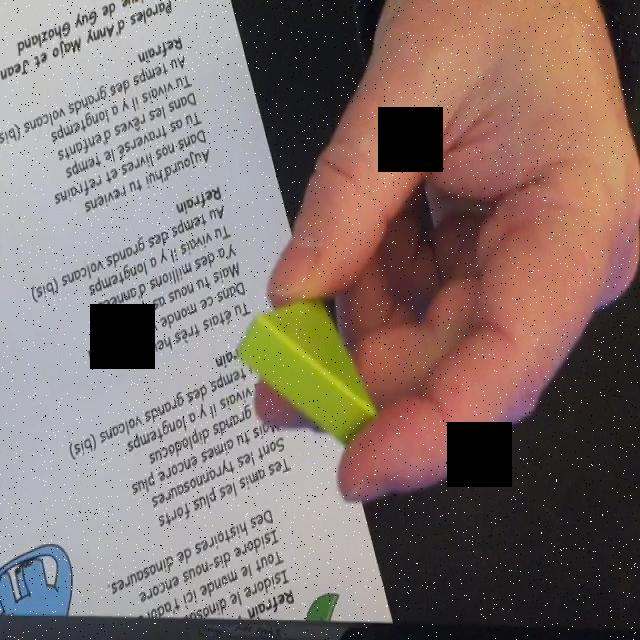triangle: (236, 292, 379, 447)
